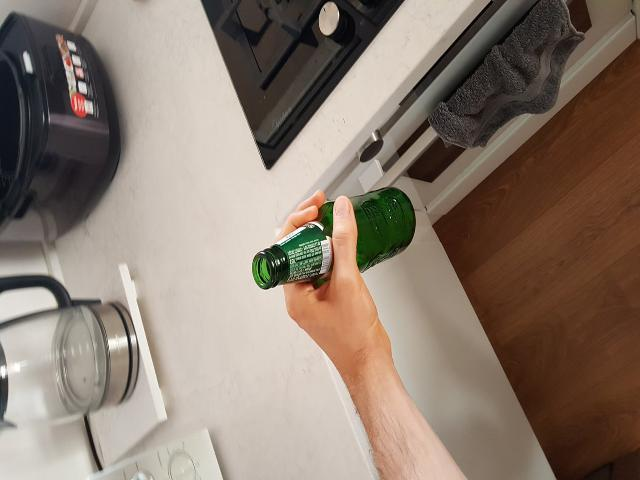beer: (253, 186, 417, 289)
